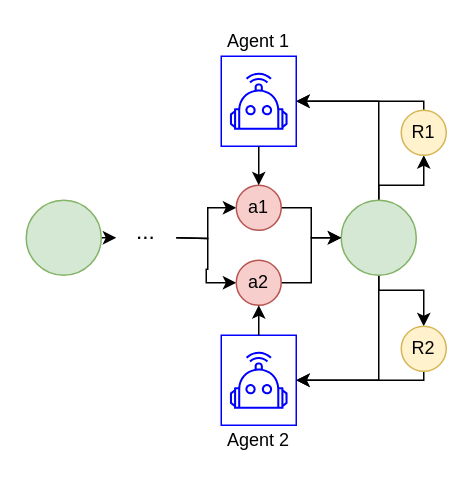
The diagram is 473 pixels wide and 480 high, and some of its shapes have lost their labels. The centre of each missing label's shape, as x and y in pixels:
"S0" goes at pixel 63 237.
"Si" goes at pixel 378 237.
